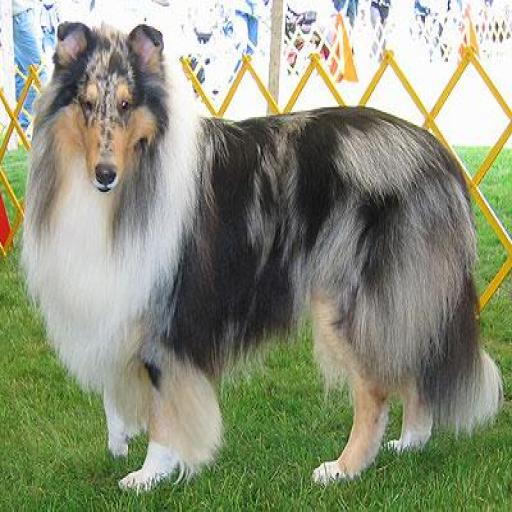dog_face: (46, 15, 172, 196)
